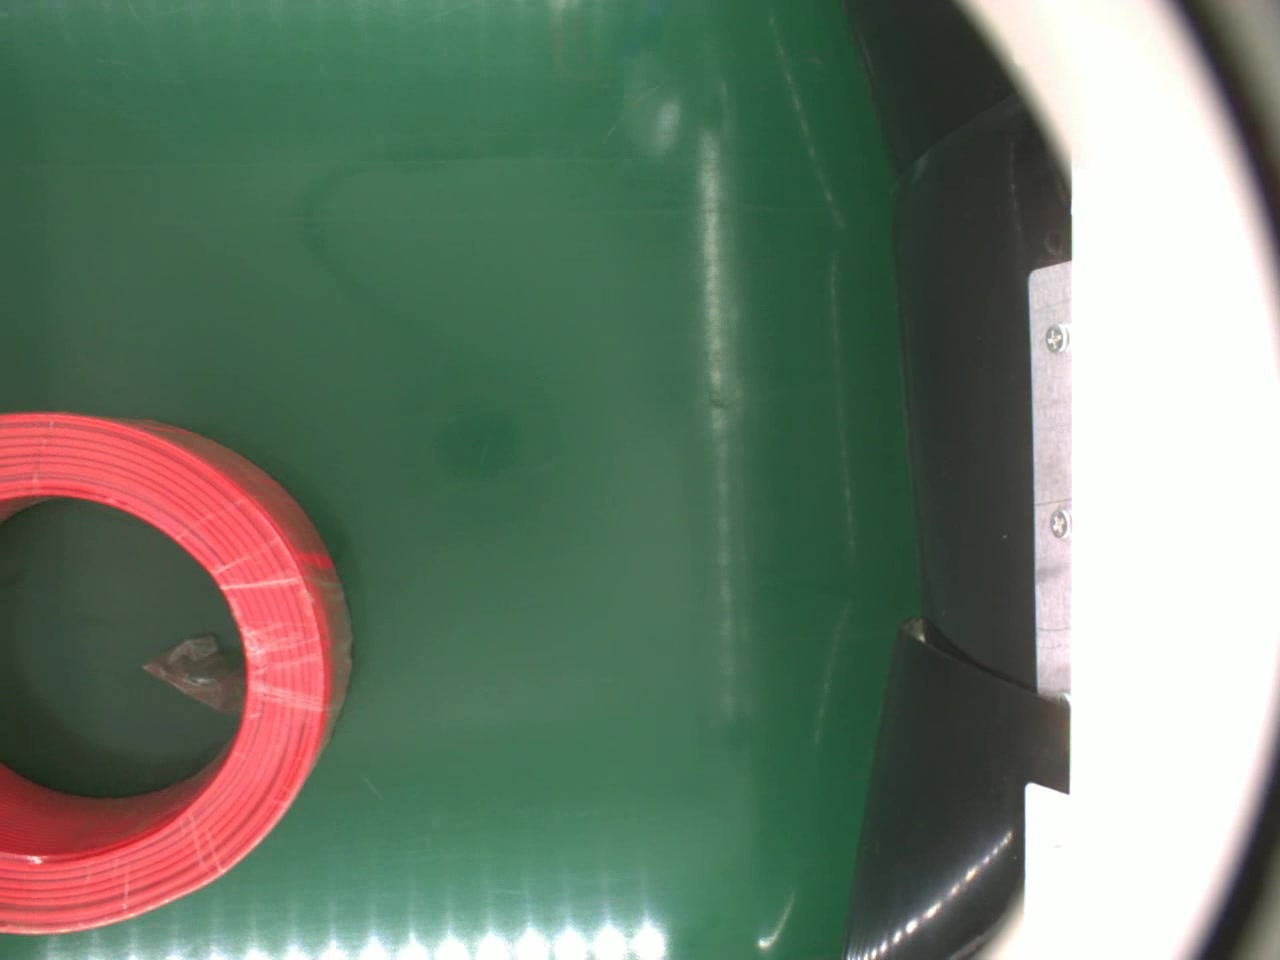red: (0, 407, 352, 938)
